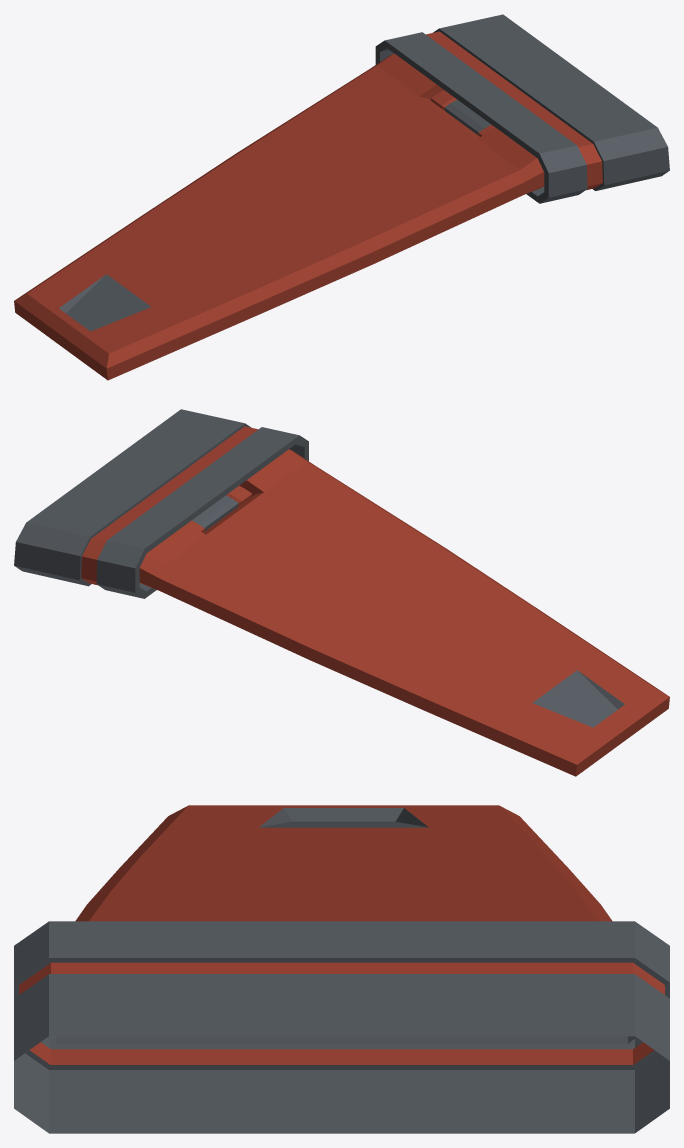
Rendered from Fighter_04_Frontal_Wing_Right_Red.fbx.
3 renders of one model, top to bottom at view 1: azimuth 30°, elevation 25°; view 2: azimuth 150°, elevation 25°; view 3: azimuth 270°, elevation 25°, orthographic. The views are drawn at different scales.
Visible parts, largest first — view 1: Fighter_04_Frontal_Wing_Right_Red; view 2: Fighter_04_Frontal_Wing_Right_Red; view 3: Fighter_04_Frontal_Wing_Right_Red.
Part boxes in pixels (box(x1,y1,x2,y2)): Fighter_04_Frontal_Wing_Right_Red: box(14, 14, 669, 380); Fighter_04_Frontal_Wing_Right_Red: box(14, 409, 669, 776); Fighter_04_Frontal_Wing_Right_Red: box(14, 805, 669, 1133).
Bounding box in the file's own units: 440 × 126 × 252.
1 material, 1 textured.
